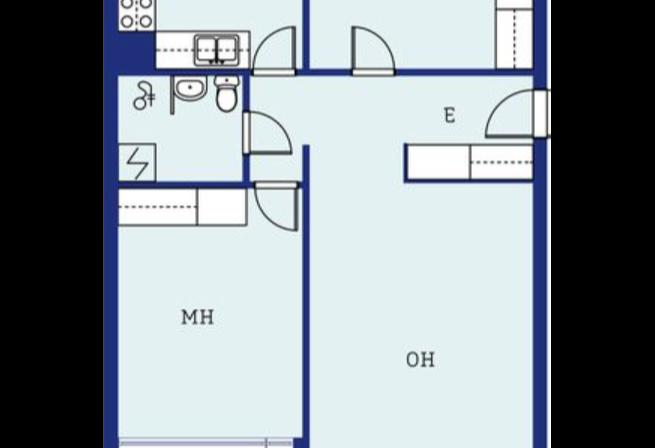door: (483, 87, 545, 141), (346, 21, 399, 79), (250, 20, 299, 80), (252, 176, 301, 232), (238, 108, 294, 156)
window: (110, 432, 301, 448)
